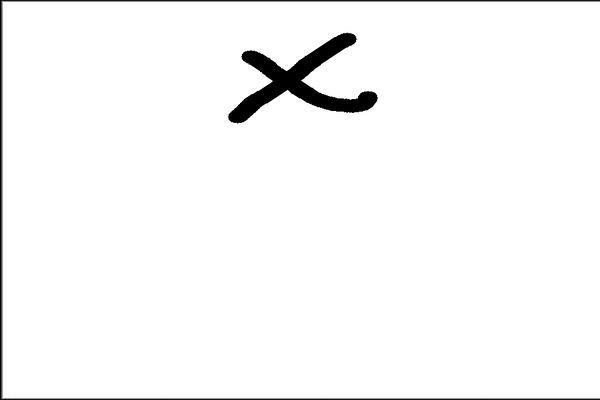X: (212, 30, 396, 149)
